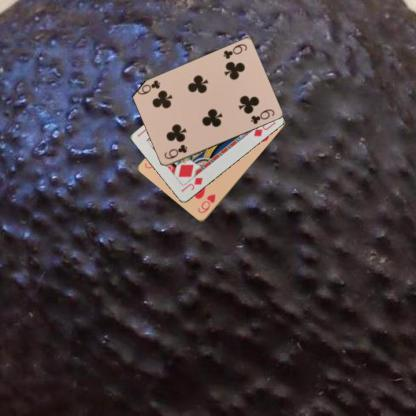6c: (220, 42, 248, 60), (162, 142, 188, 161)
6h: (195, 191, 217, 215)
Jd: (178, 175, 204, 194)
